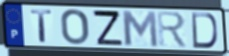D: (191, 12, 220, 50)
M: (119, 9, 160, 49)
O: (59, 8, 90, 46)
R: (155, 10, 190, 49)
T: (29, 8, 54, 43)
Z: (91, 9, 125, 47)
